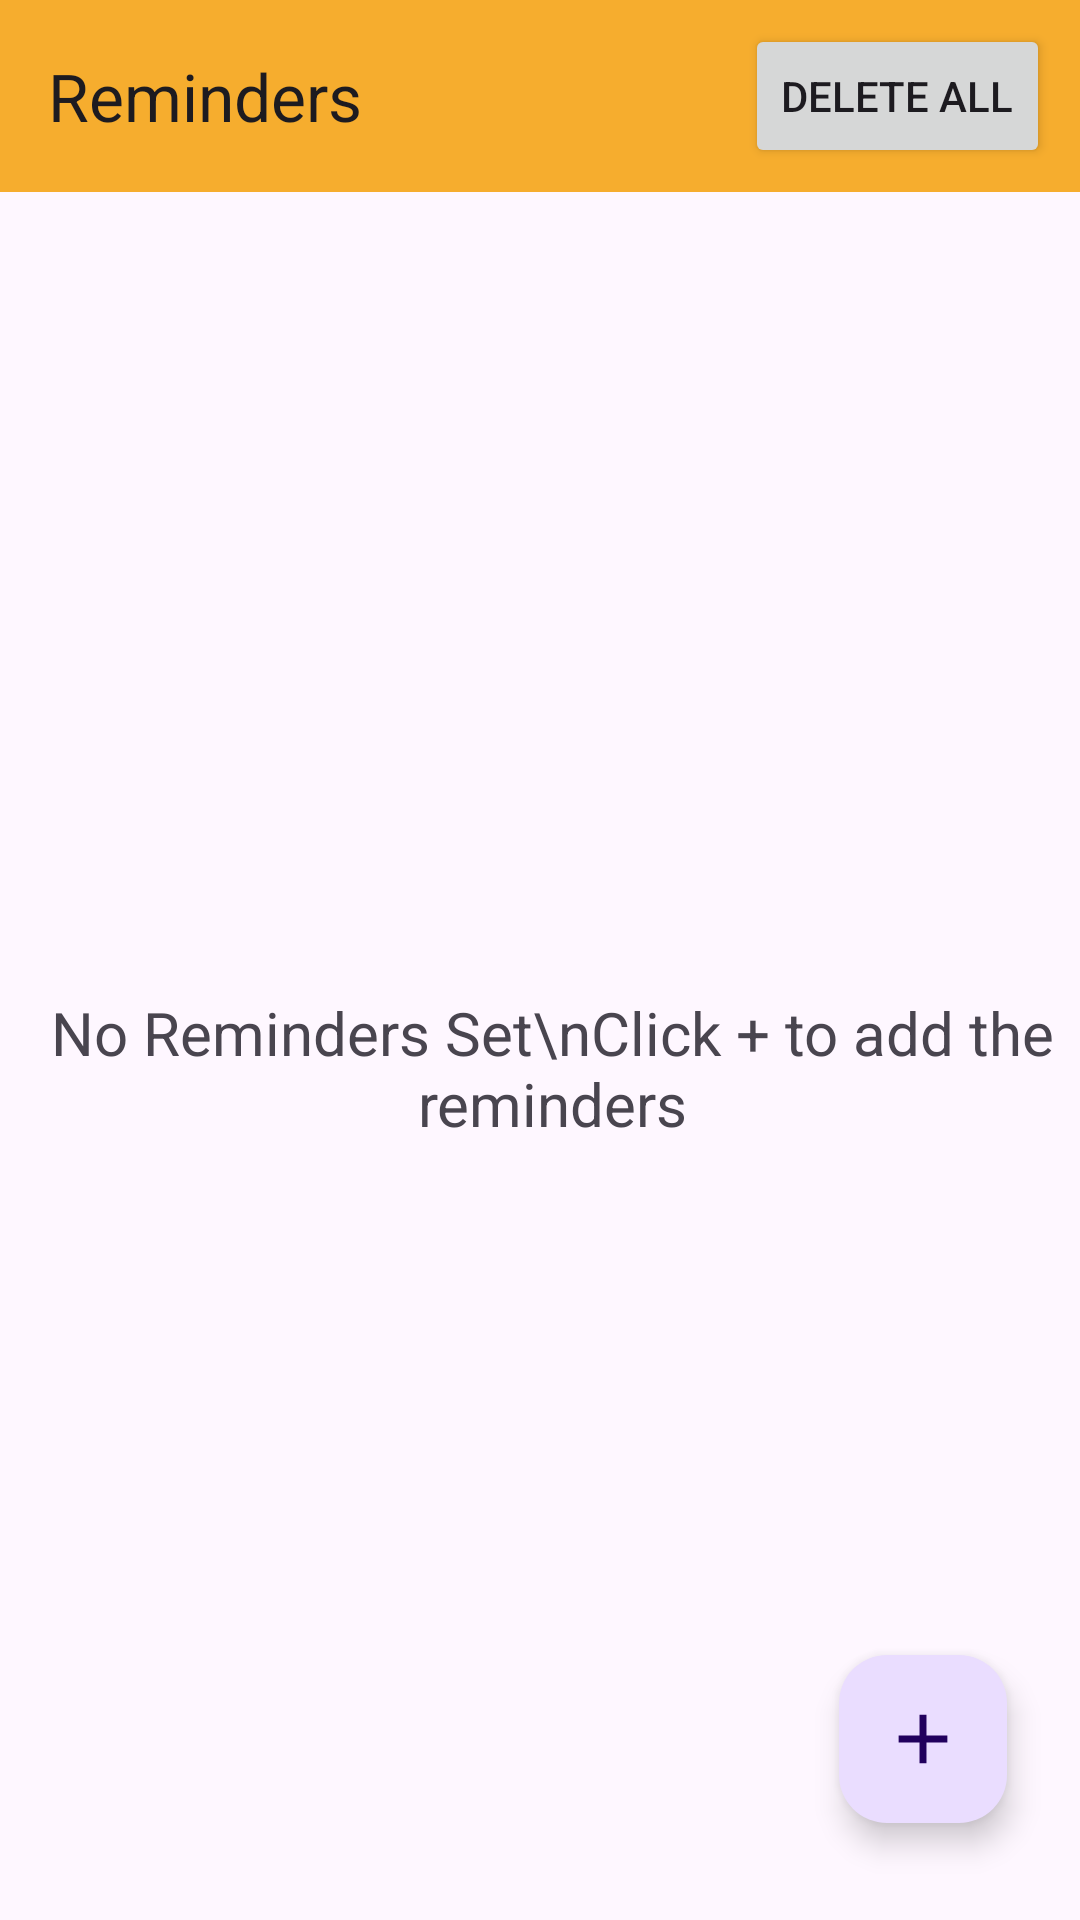

Point at icon controls on the screen. Image size 1080 x 1920, points as (x,y).
floating: (923,1739)
